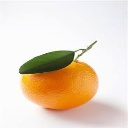orange: (20, 50, 101, 111)
